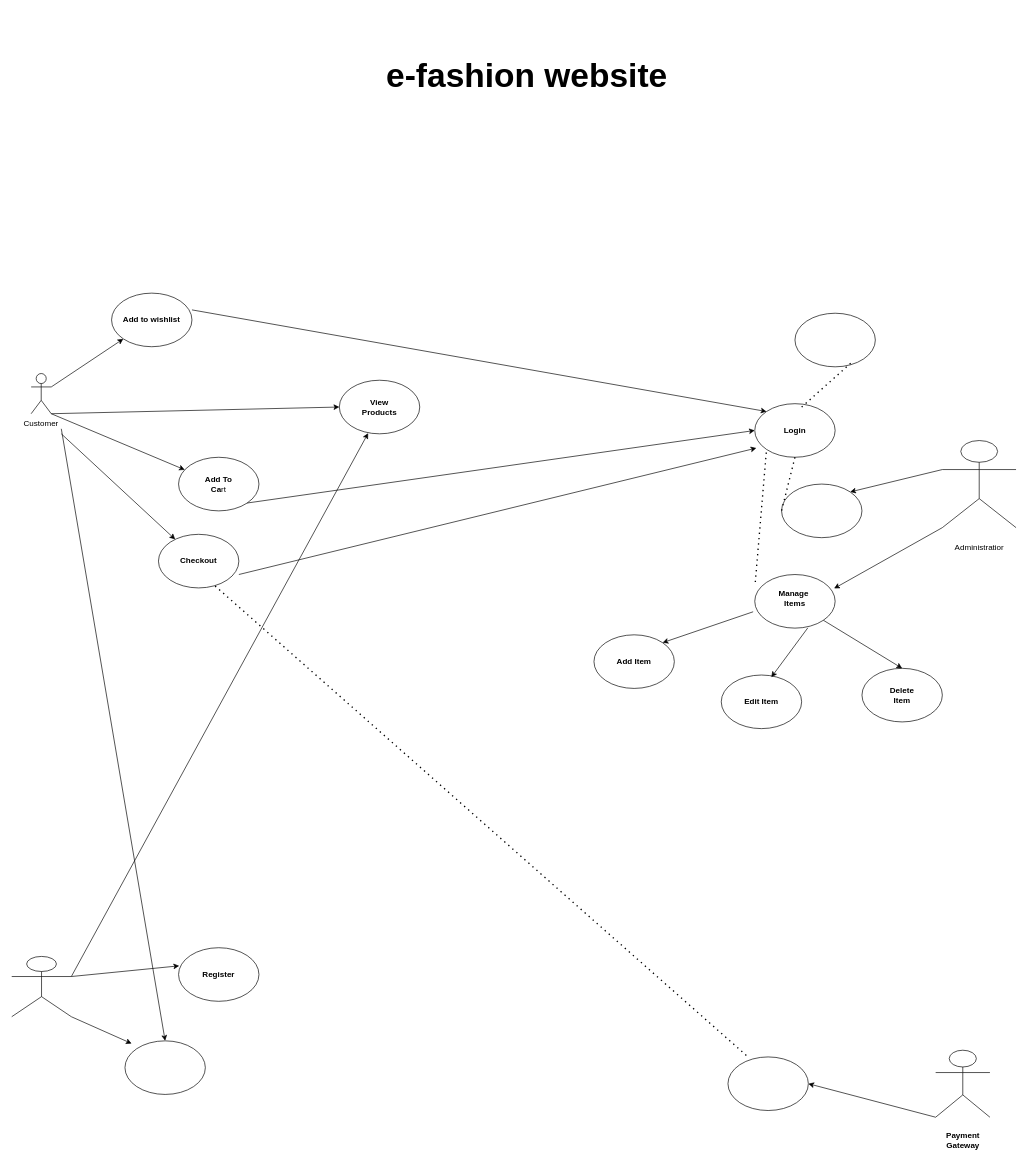
Some shapes in this 1029 by 1162 pixel diagram are drawn without their labels. Here are the shapes that lost their labels. From the top down, the centre of each, then its label:
At [834,340]: "Gets Error Message".
At [821,510]: "Handle Orders".
At [41,986]: "Guest".
At [164,1067]: "Search".
At [767,1083]: "Authorize Payment".
